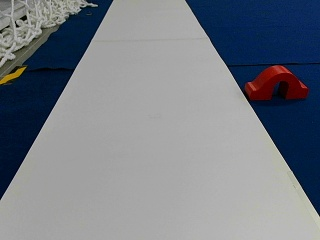bridge: (246, 65, 307, 98)
